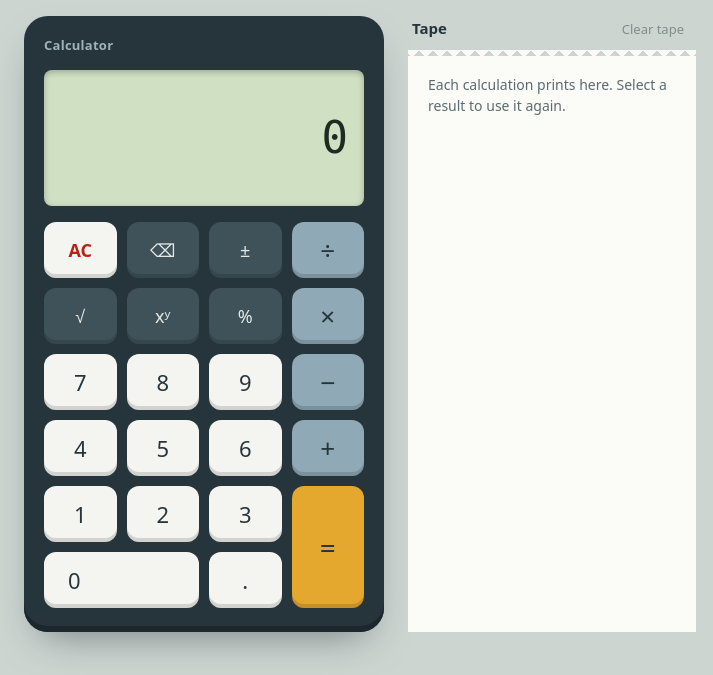
Calculator › chains operations left to right
Click the button "2": {"x": 163, "y": 514} [126,486,199,542]
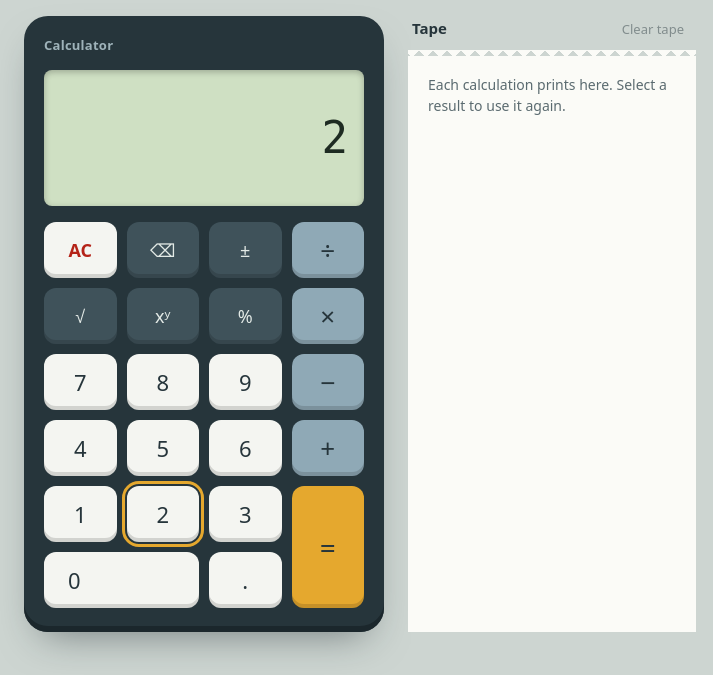
Click the button named "Add": {"x": 328, "y": 448} [292,420,364,476]
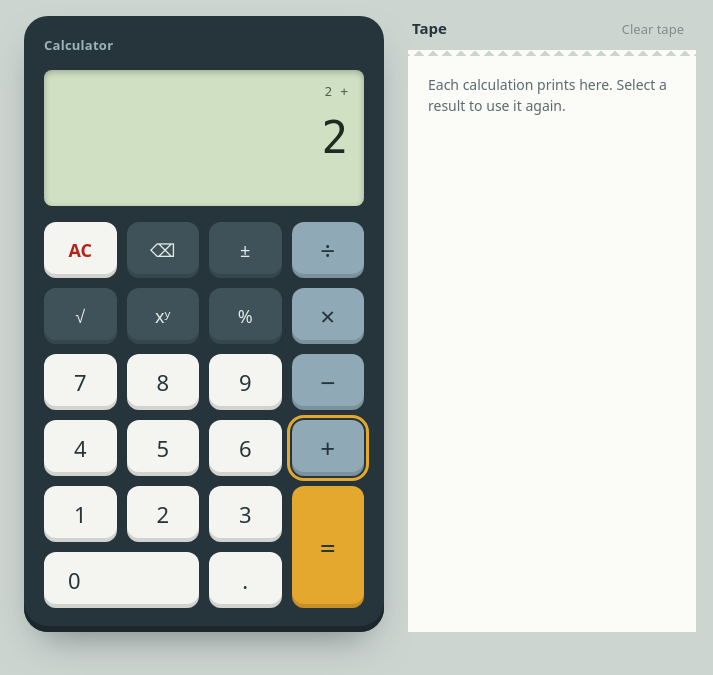
Click the button "3": {"x": 245, "y": 514} [209,486,282,542]
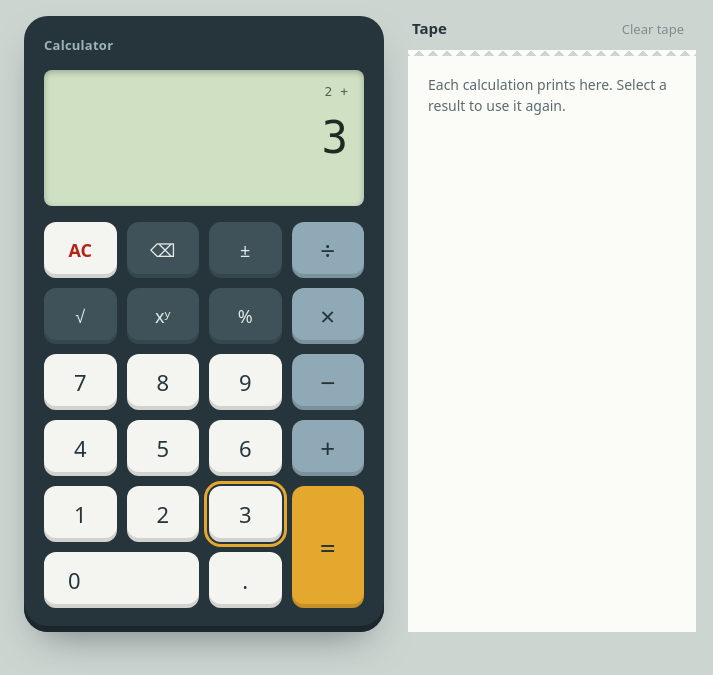
Click the button named "Multiply": {"x": 328, "y": 316} [292,288,364,344]
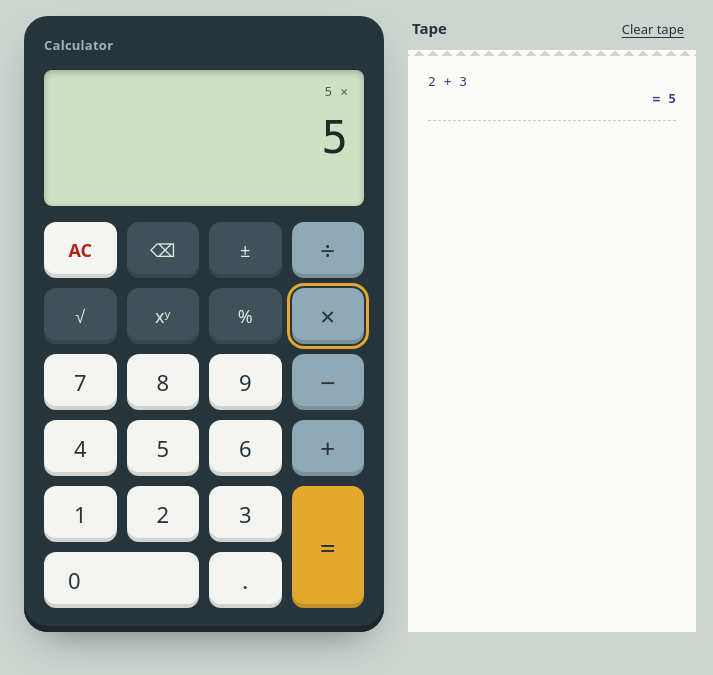
Result: the text with test id "expression" reads "5 ×" at [324,84,348,99]
Click the button "4": {"x": 80, "y": 448} [44,420,116,476]
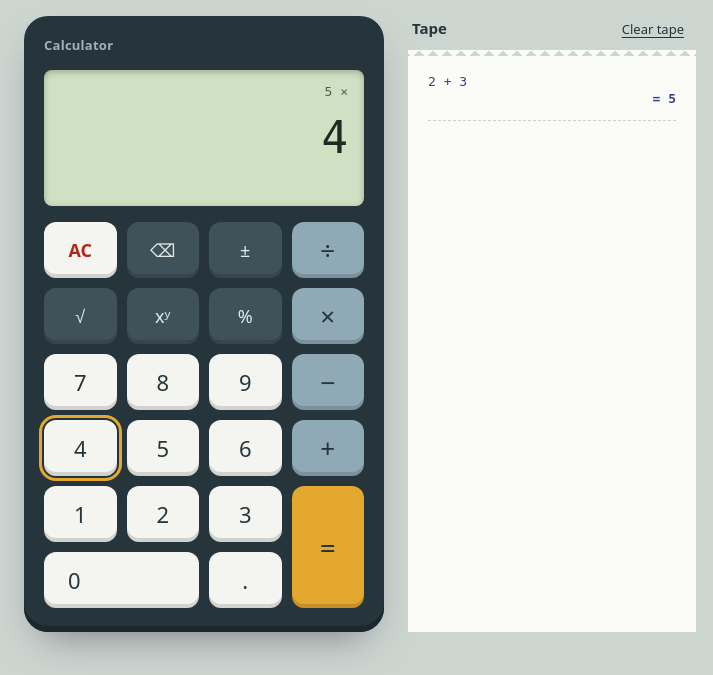
Click the button named "Equals": {"x": 328, "y": 547} [292,486,364,608]
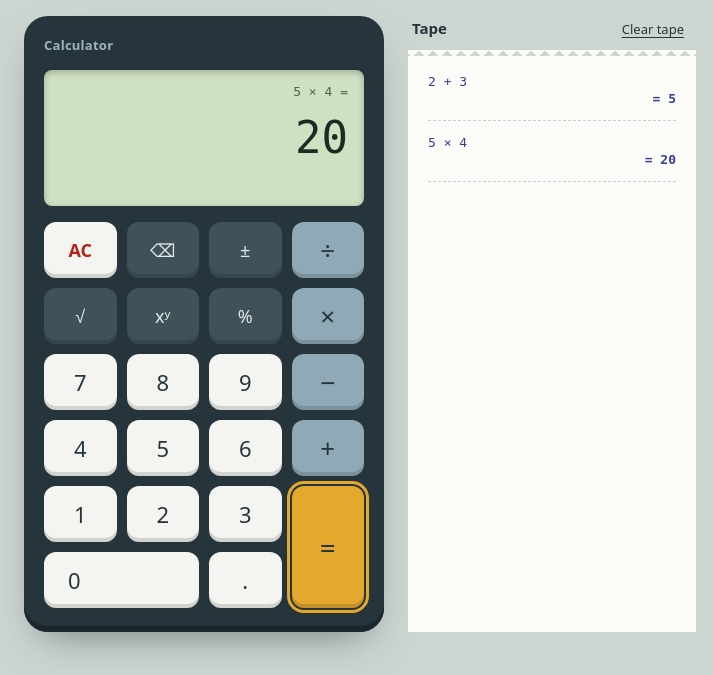
Result: the text named "Result" reads "20" at [295,112,348,163]
